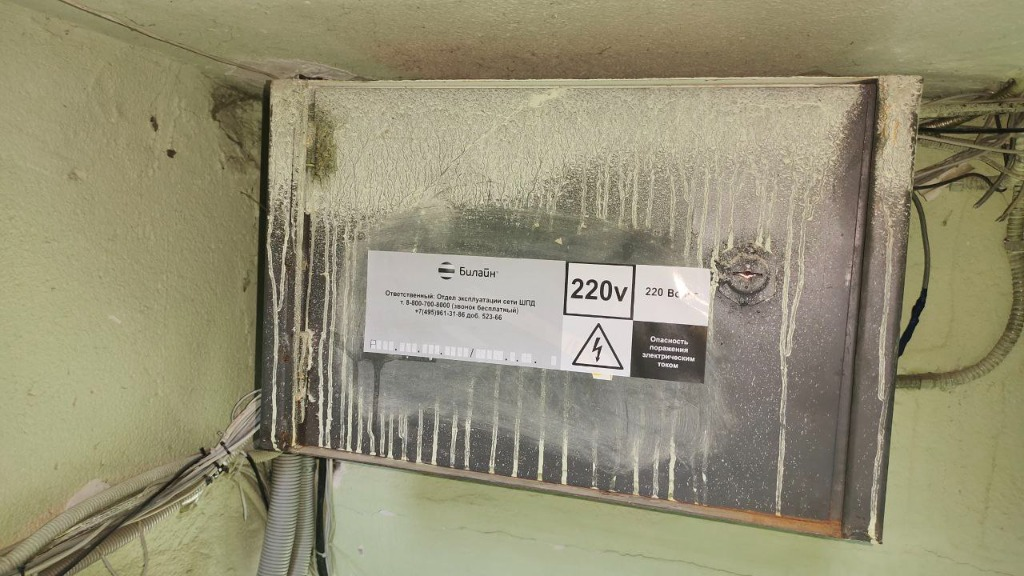e2-6u: (251, 67, 928, 549)
